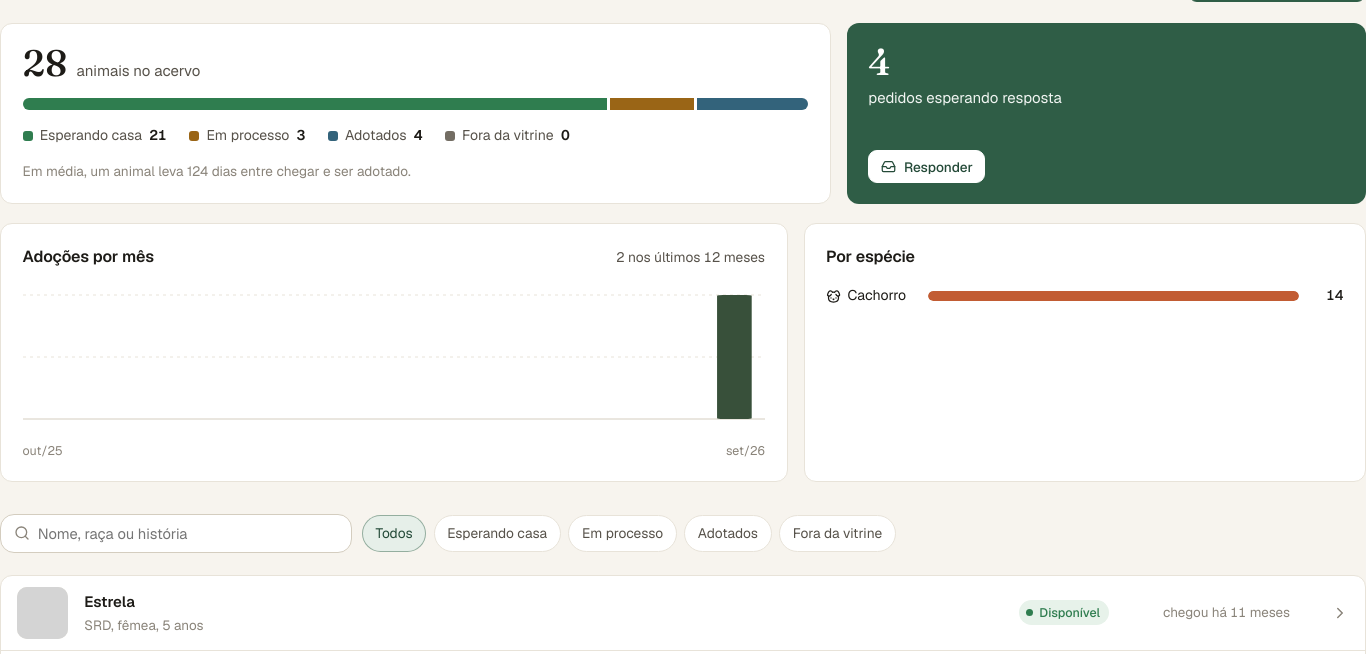
Scenario: acervo › filtra por situação e busca, e limpa os filtros quando nada aparece
Click the button "Adotados" at [728, 534], box [684, 515, 772, 552]
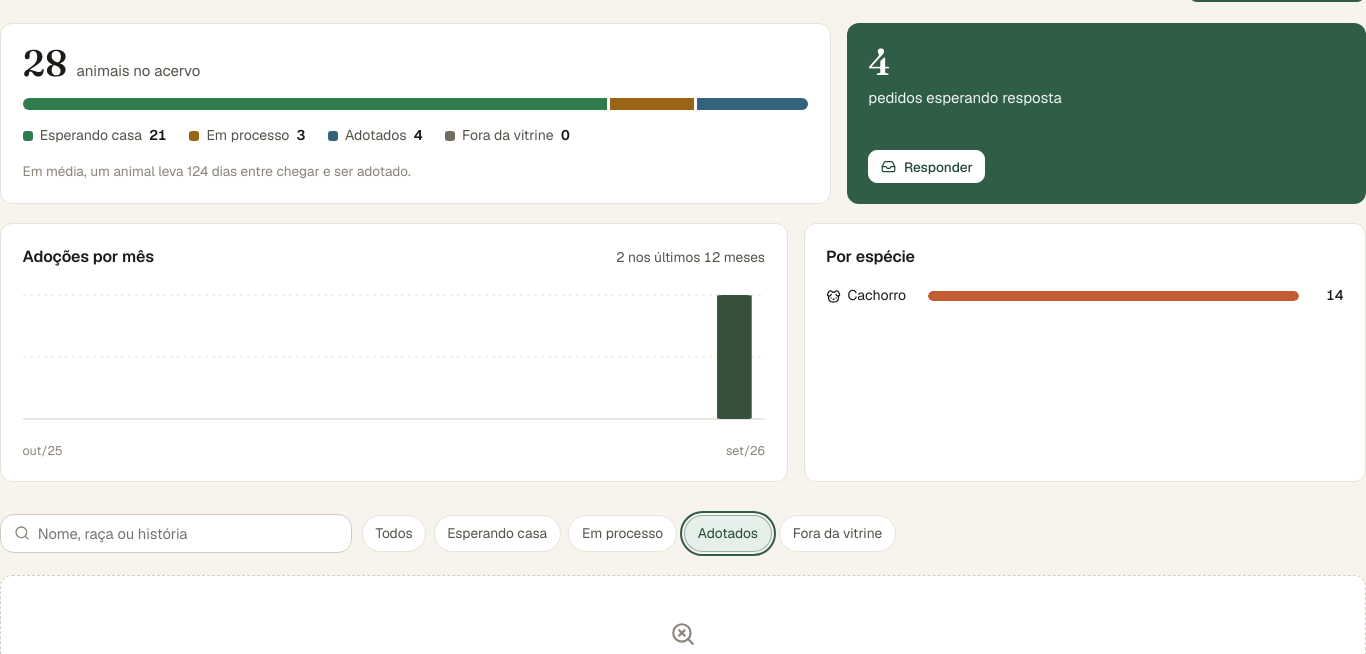
Type " bidu " into the field named "Buscar no acervo" at [188, 534], box [38, 517, 338, 550]
Then press Enter
(page scrolled)
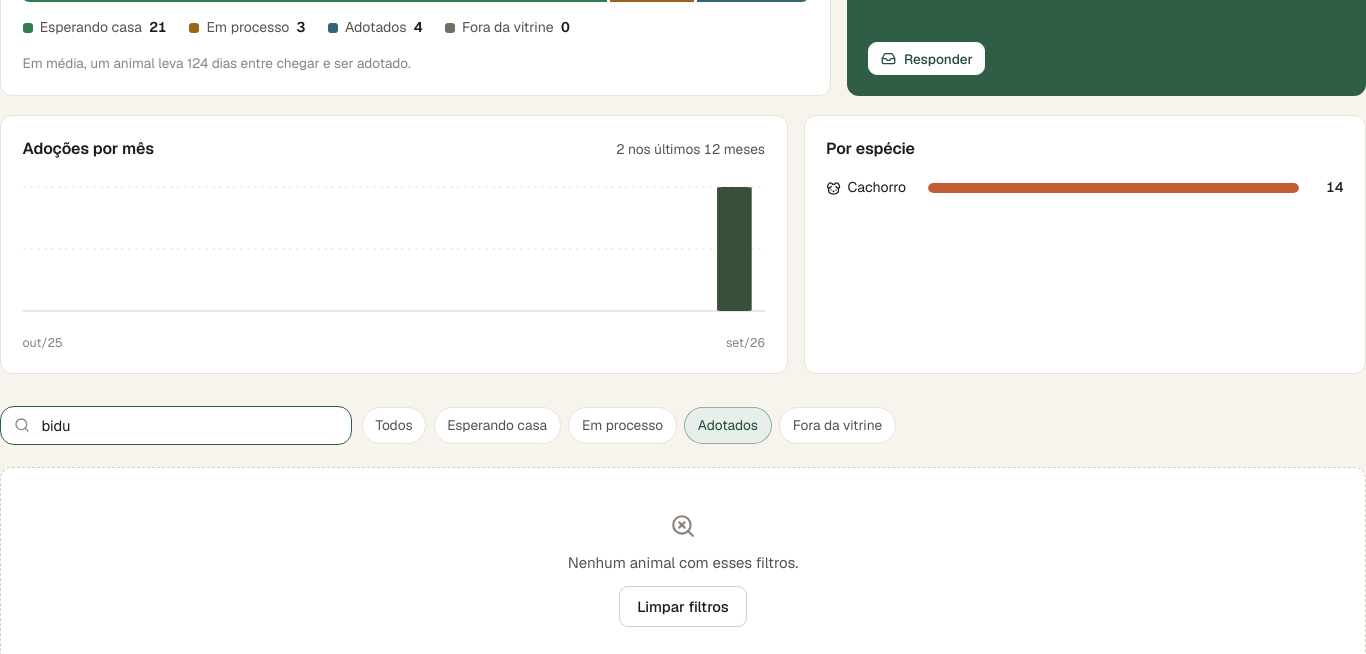
expect the text "Nenhum animal com esses filtros." is shown: met, box [568, 551, 798, 574]
Click the button "Limpar filtros" at [683, 607], box [619, 586, 746, 627]
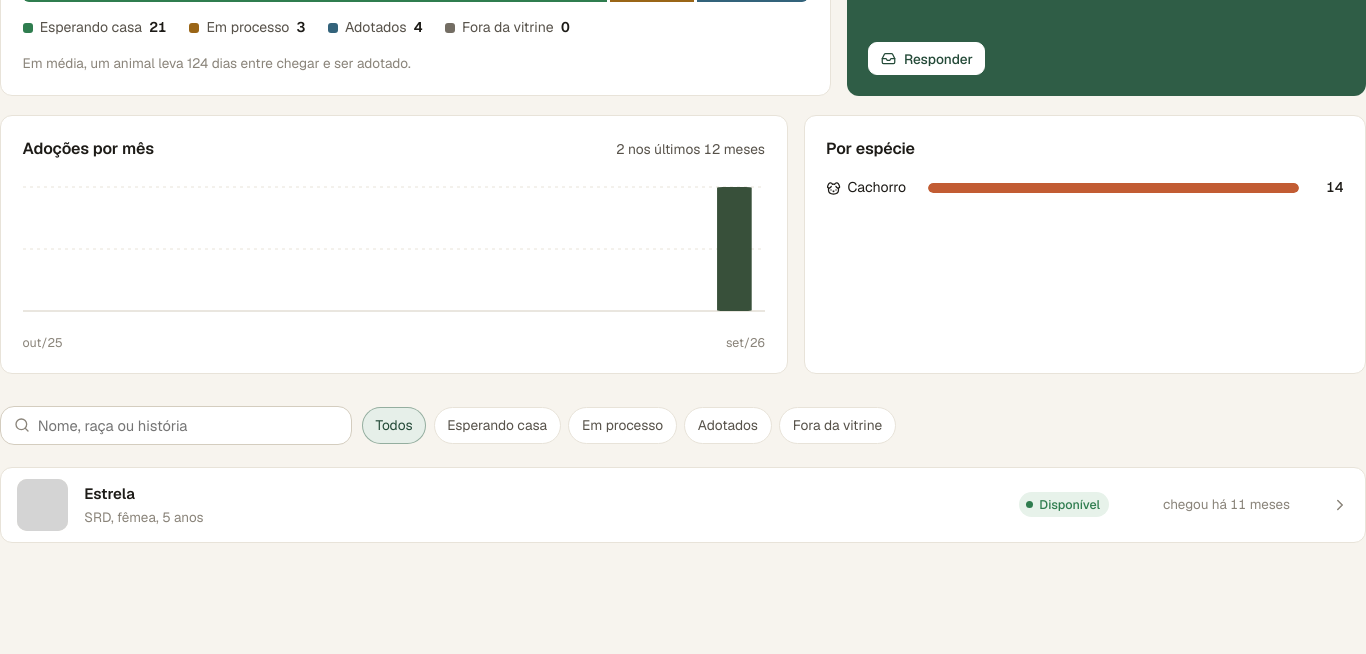
expect the field named "Buscar no acervo" is empty: met, box [38, 409, 338, 442]
